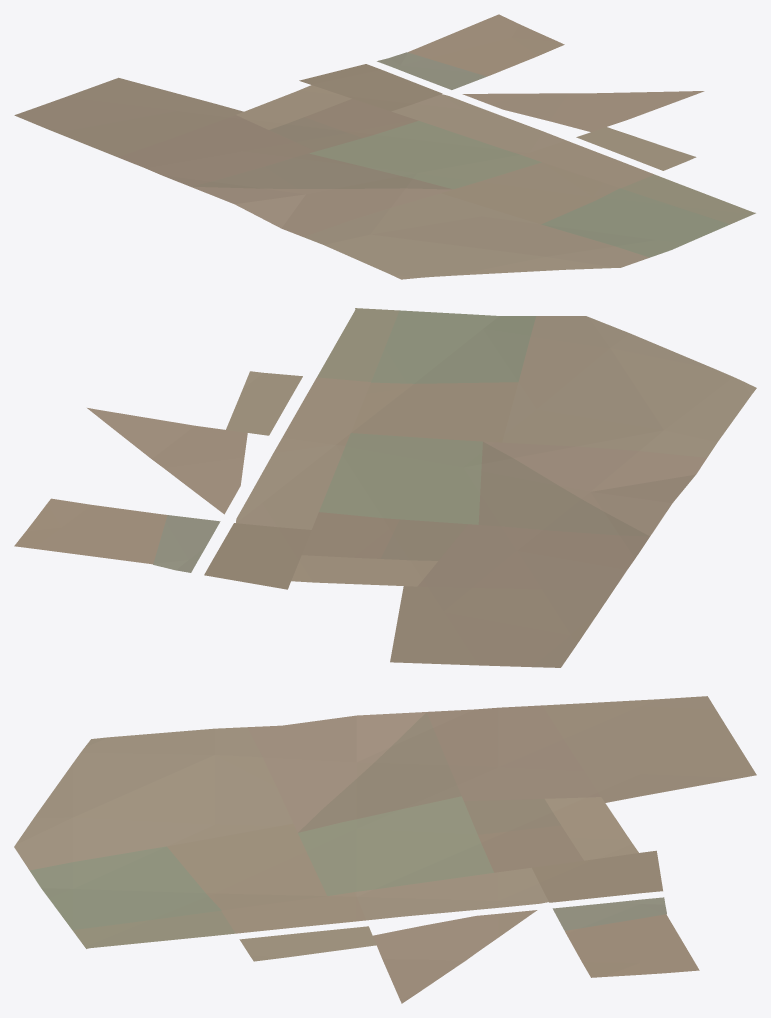
Rendered from farm_-5_15_soil.glb.
3 views of the same model, one above another, from view 1: azimuth 30°, elevation 25°; view 2: azimuth 150°, elevation 25°; view 3: azimuth 270°, elevation 25° (orthographic). The views are drawn at different scales.
Visible parts, largest first — view 1: geometry_0; view 2: geometry_0; view 3: geometry_0.
Part boxes in pixels (bbox=[...]): geometry_0: bbox=[14, 14, 755, 279]; geometry_0: bbox=[14, 308, 756, 667]; geometry_0: bbox=[14, 696, 756, 1003].
Size of the model in its own units: 398 by 20.22 by 419.
